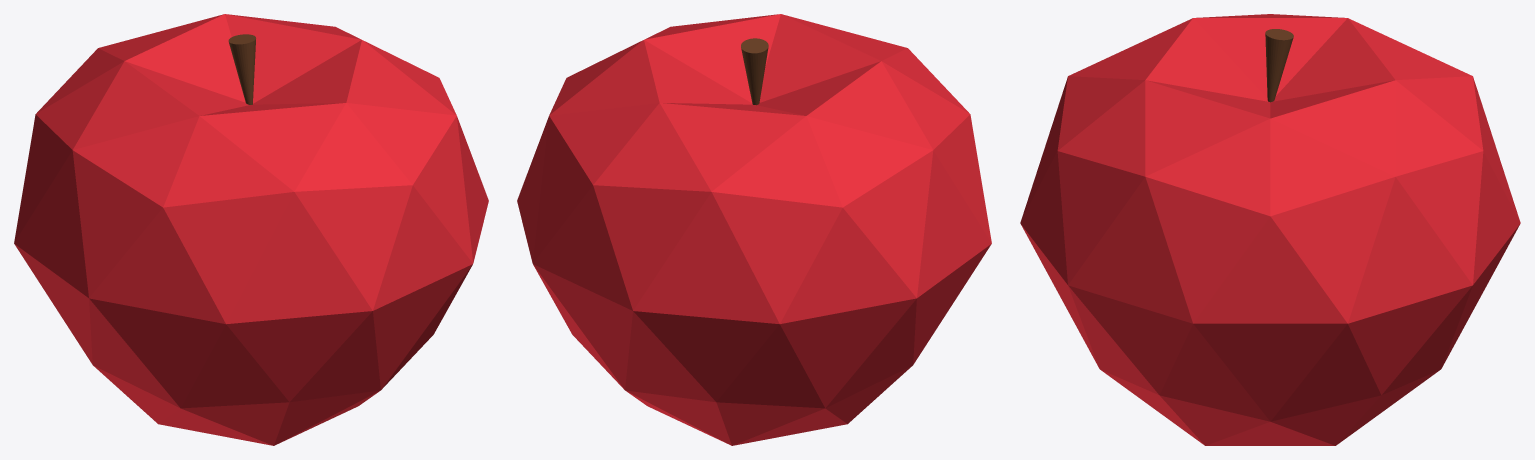
File: AppleRed.fbx
The picture shows the model from 3 angles, left to right: view 1: azimuth 30°, elevation 25°; view 2: azimuth 150°, elevation 25°; view 3: azimuth 270°, elevation 25°; orthographic projection. The views are drawn at different scales.
Parts seen in each view (by area): view 1: Icosphere, Cone; view 2: Icosphere, Cone; view 3: Icosphere, Cone.
Part boxes in pixels (x1,y1,x2,y2): Icosphere: [14, 14, 488, 445]; Cone: [228, 34, 255, 104]; Icosphere: [517, 14, 991, 445]; Cone: [741, 38, 768, 105]; Icosphere: [1020, 14, 1520, 445]; Cone: [1265, 29, 1293, 102].
Bounding box in the file's own units: 19.47 × 16.82 × 20.47.
